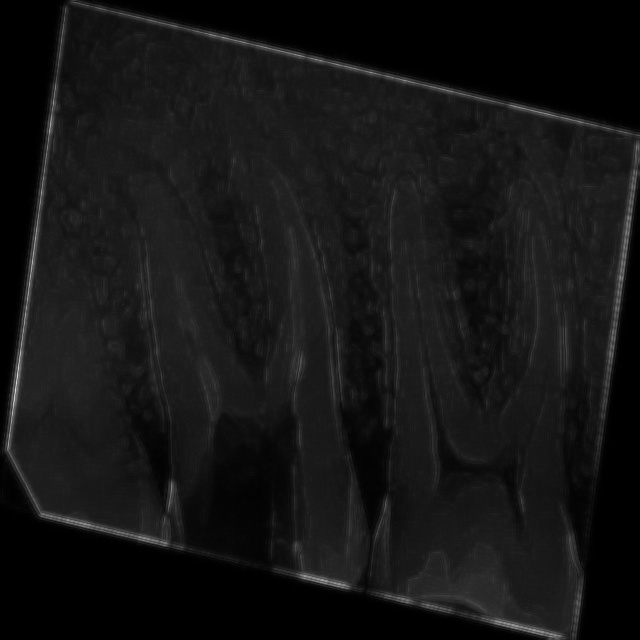Class 1- complete endodontic treatment: (58, 82, 396, 470)
cavity: (329, 116, 631, 570)
